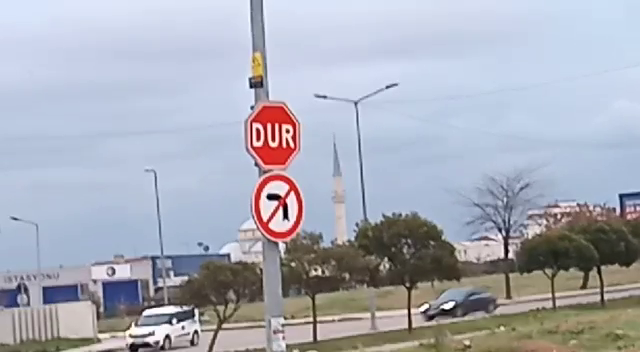no_left: (249, 171, 308, 245)
stop: (242, 100, 303, 174)
